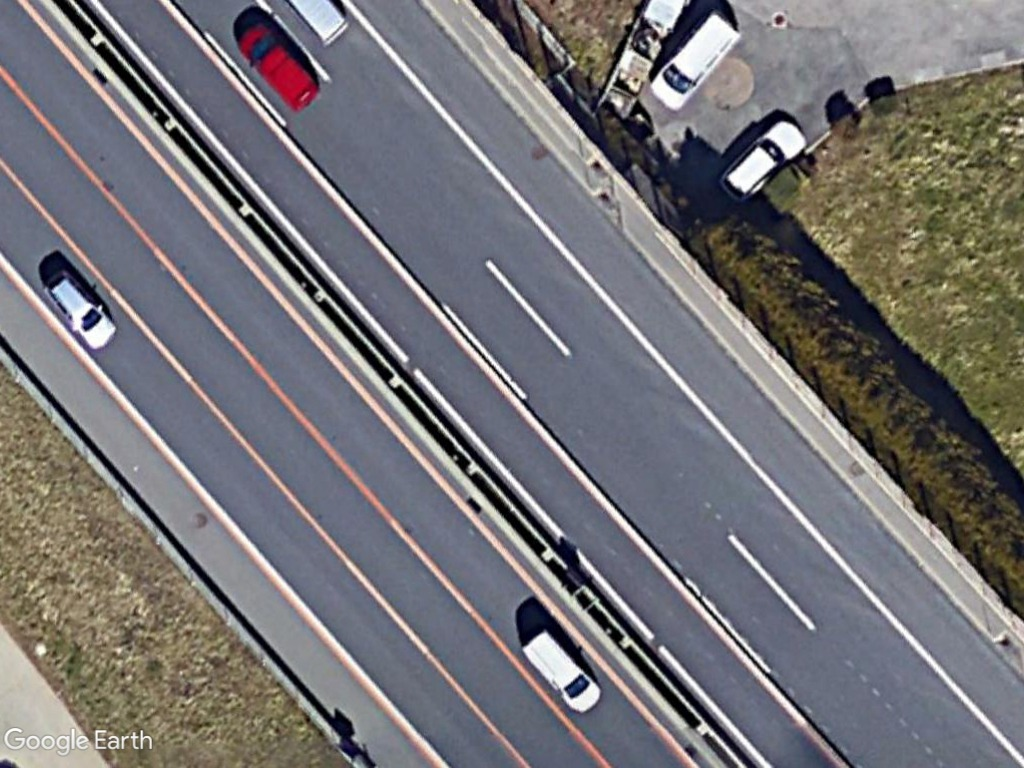car: (233, 25, 320, 111), (41, 270, 117, 351)
van: (648, 8, 742, 113), (718, 115, 810, 203), (515, 628, 603, 712)
